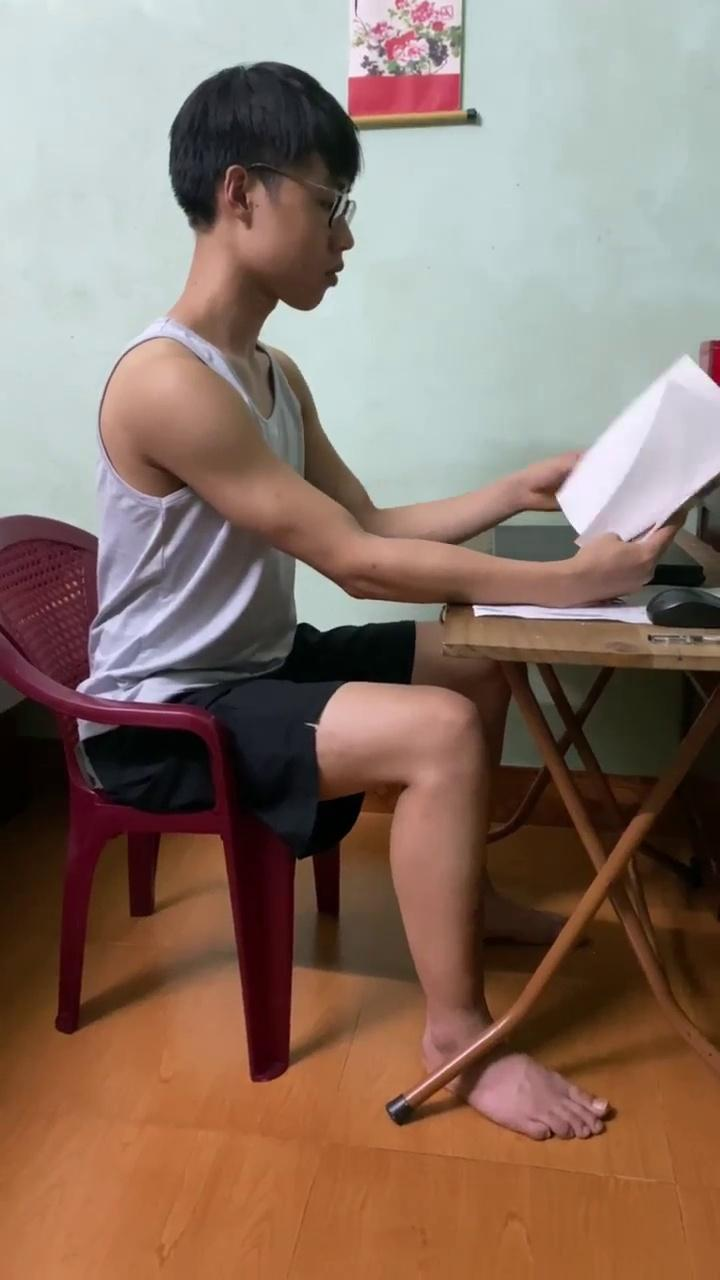GoodPosture: (86, 62, 684, 1069)
